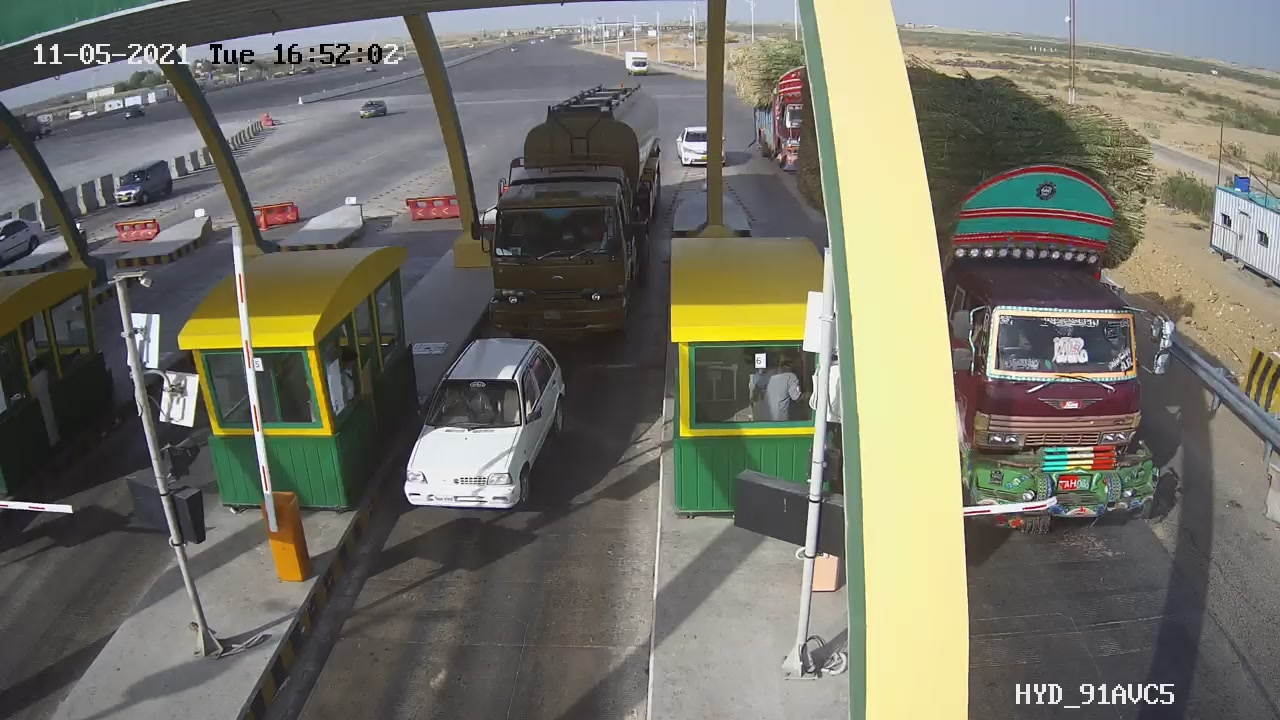F1: (379, 320, 573, 533)
F6: (475, 64, 671, 350)
